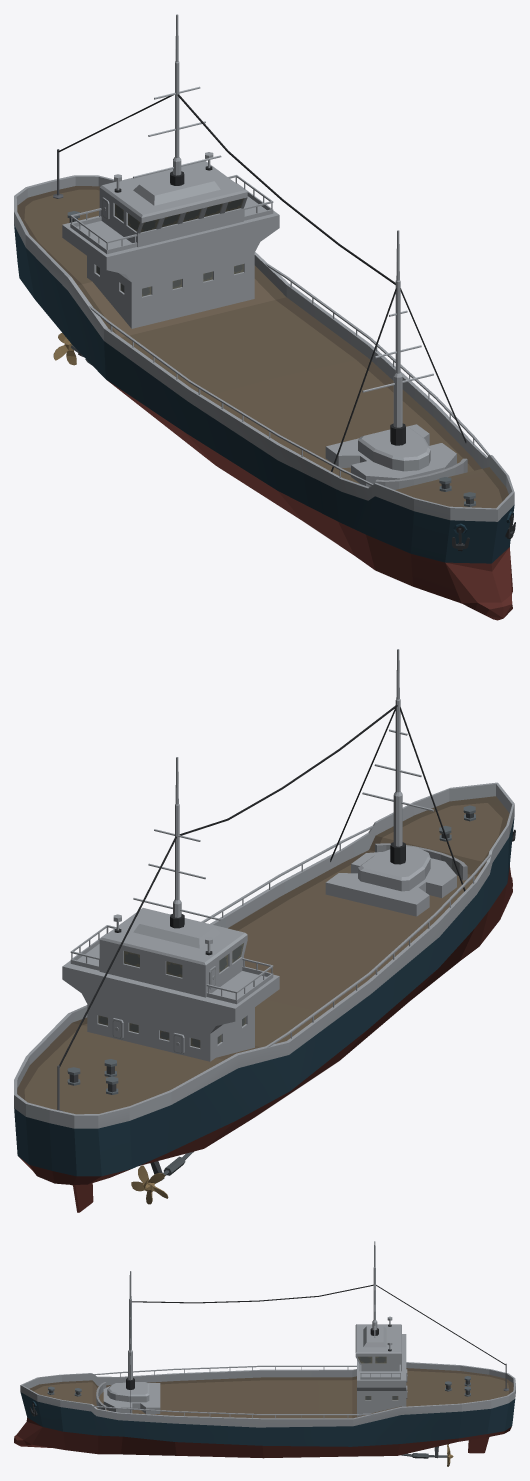
File: SM_Prop_Ship_01.fbx
3 renders of one model, top to bottom at view 1: azimuth 30°, elevation 25°; view 2: azimuth 150°, elevation 25°; view 3: azimuth 270°, elevation 25°, orthographic. The views are drawn at different scales.
Visible parts, largest first — view 1: SM_Prop_Ship_01; view 2: SM_Prop_Ship_01; view 3: SM_Prop_Ship_01.
Part boxes in pixels (left/top/right/bottom): SM_Prop_Ship_01: left=14, top=14, right=515, bottom=620; SM_Prop_Ship_01: left=14, top=649, right=515, bottom=1212; SM_Prop_Ship_01: left=14, top=1241, right=515, bottom=1466.
Bounding box in the file's own units: 1764 × 3549 × 7498.
Materials: 1 (1 with a texture image).
